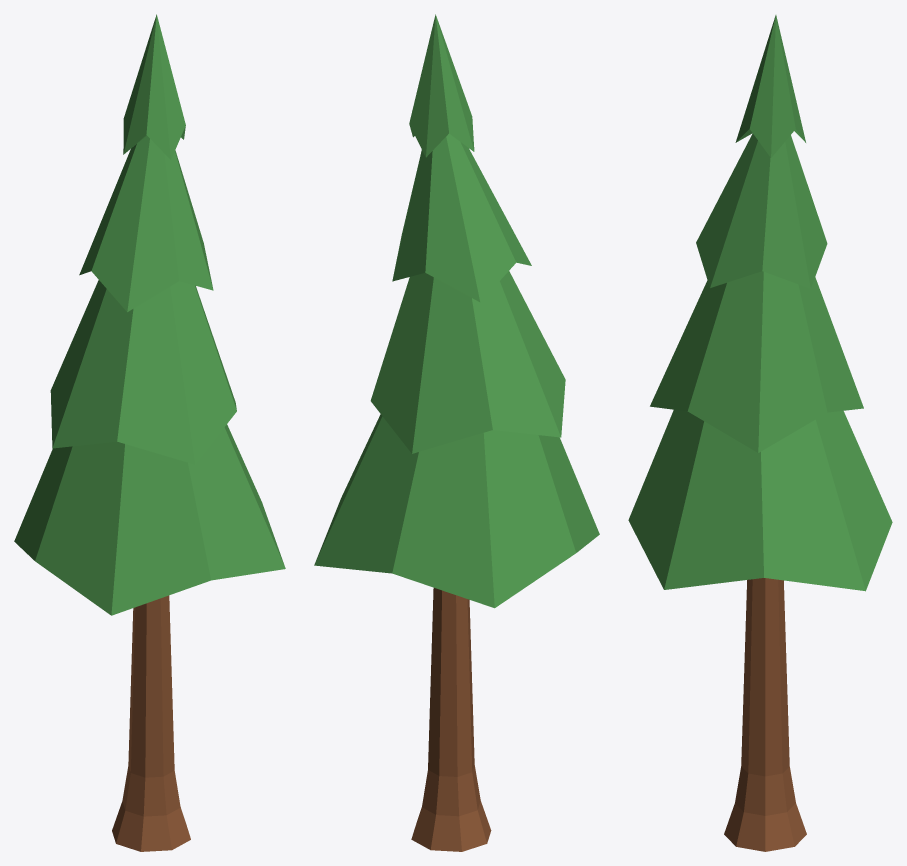
The model's file is fir_02.fbx.
3 renders of one model, left to right at view 1: azimuth 30°, elevation 25°; view 2: azimuth 150°, elevation 25°; view 3: azimuth 270°, elevation 25°, orthographic.
Parts seen in each view (by area): view 1: fir_02; view 2: fir_02; view 3: fir_02.
Part boxes in pixels (left/top/right/bottom): fir_02: left=14, top=14, right=285, bottom=851; fir_02: left=314, top=14, right=599, bottom=851; fir_02: left=628, top=15, right=892, bottom=851.
Bounding box in the file's own units: 195 × 661 × 192.
